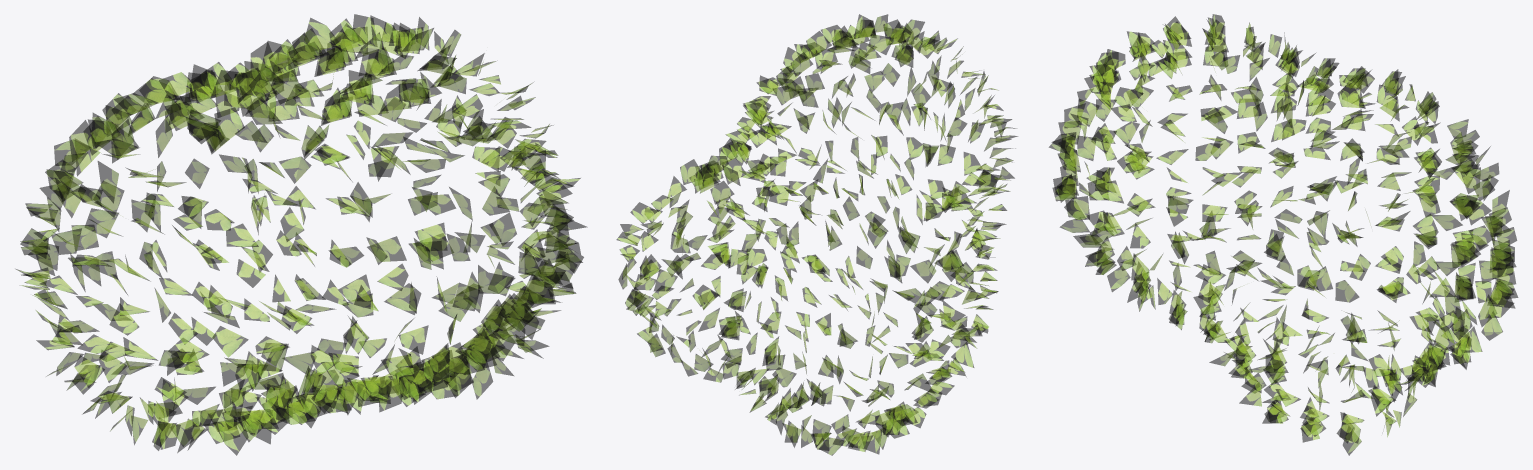
The model's file is leaves_solid.obj.
The picture shows the model from 3 angles, left to right: view 1: azimuth 30°, elevation 25°; view 2: azimuth 150°, elevation 25°; view 3: azimuth 270°, elevation 25°; orthographic projection. The views are drawn at different scales.
Parts seen in each view (by area): view 1: Hair1; view 2: Hair1; view 3: Hair1.
Part boxes in pixels (x1,y1,x2,y2): Hair1: (16,14,587,455); Hair1: (616,14,1017,455); Hair1: (1049,14,1518,455).
Bounding box in the file's own units: 0.5395 × 0.4818 × 0.5445.
